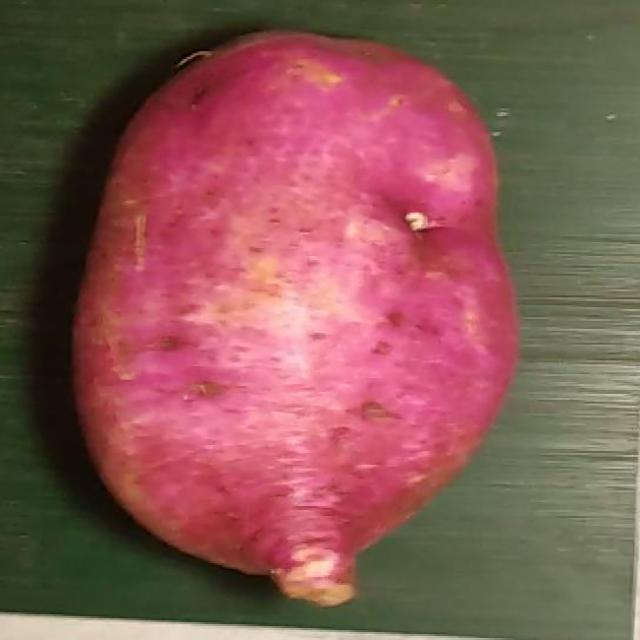Sweet Potato: (75, 32, 515, 607)
